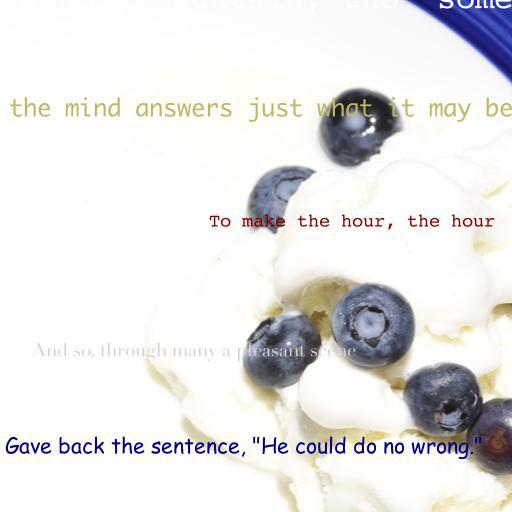Comic Sans MS: (5, 436, 483, 460)
Courier: (0, 0, 512, 15), (209, 214, 495, 230)
Didot: (32, 342, 356, 362)
Monaco: (0, 97, 512, 122)
